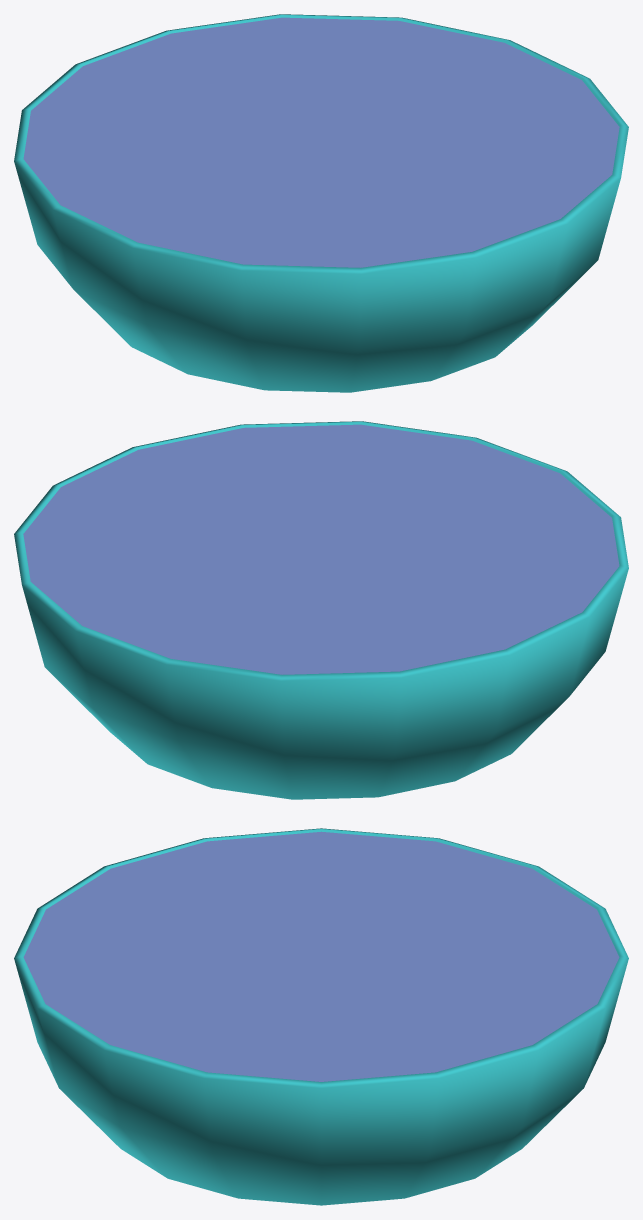
The model's file is salata1.fbx.
3 views of the same model, one above another, from view 1: azimuth 30°, elevation 25°; view 2: azimuth 150°, elevation 25°; view 3: azimuth 270°, elevation 25° (orthographic).
Parts seen in each view (by area): view 1: Sphere.010, Sphere; view 2: Sphere.010, Sphere; view 3: Sphere.010, Sphere.
Part boxes in pixels (x1,y1,x2,y2): Sphere.010: [23, 17, 619, 267]; Sphere: [14, 14, 628, 392]; Sphere.010: [23, 424, 619, 674]; Sphere: [14, 421, 628, 799]; Sphere.010: [23, 831, 619, 1081]; Sphere: [14, 828, 628, 1205].
Size of what is drawn, in the model's own units: 59.76 by 16.93 by 59.76.
